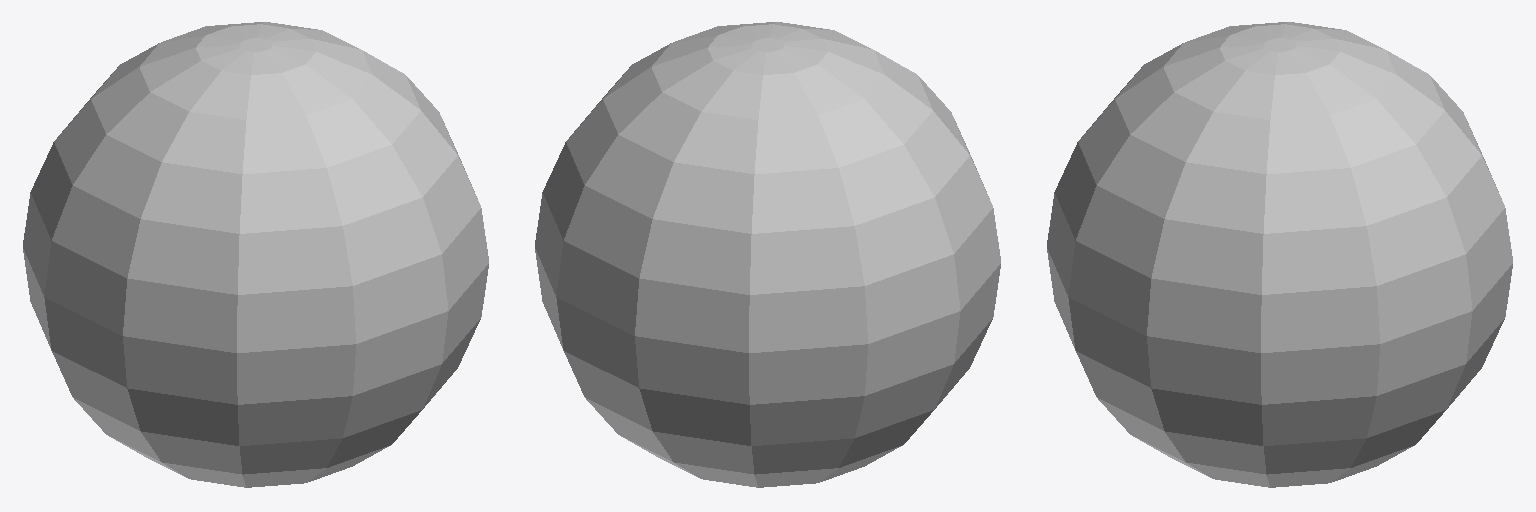
File: Naranja.obj
3 views of the same model, side by side, from view 1: azimuth 30°, elevation 25°; view 2: azimuth 150°, elevation 25°; view 3: azimuth 270°, elevation 25° (orthographic).
Visible parts, largest first — view 1: Naranja.001_orange.000; view 2: Naranja.001_orange.000; view 3: Naranja.001_orange.000.
Boxes of the visible parts, x1,y1,x2,y2 form: Naranja.001_orange.000: [23, 22, 488, 487]; Naranja.001_orange.000: [535, 22, 1000, 487]; Naranja.001_orange.000: [1047, 22, 1512, 487].
Bounding box in the file's own units: 0.1383 × 0.138 × 0.1383.